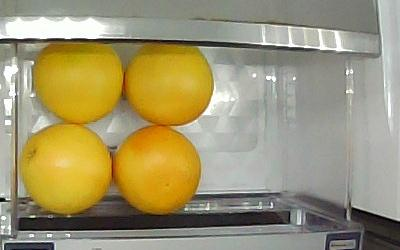grapefruit: (19, 123, 112, 214), (112, 125, 202, 215), (123, 43, 214, 127), (33, 43, 124, 122)
